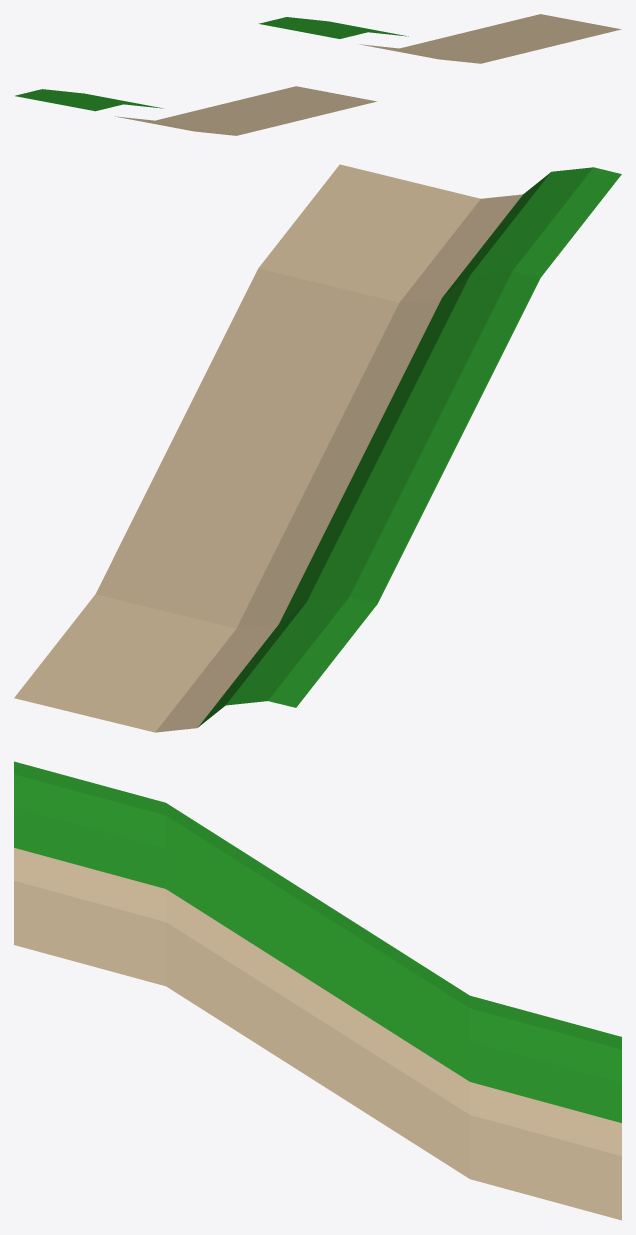
The model's file is Hilly_Terrain_Path_Hill_Sharp_Plain_Side.glb.
3 renders of one model, top to bottom at view 1: azimuth 30°, elevation 25°; view 2: azimuth 150°, elevation 25°; view 3: azimuth 270°, elevation 25°, orthographic. The views are drawn at different scales.
Visible parts, largest first — view 1: Hilly_Terrain_Path_Hill_Sharp_Plain_Side; view 2: Hilly_Terrain_Path_Hill_Sharp_Plain_Side; view 3: Hilly_Terrain_Path_Hill_Sharp_Plain_Side.
Part boxes in pixels (x1,y1,x2,y2): Hilly_Terrain_Path_Hill_Sharp_Plain_Side: (15,14,621,135); Hilly_Terrain_Path_Hill_Sharp_Plain_Side: (14,164,621,732); Hilly_Terrain_Path_Hill_Sharp_Plain_Side: (14,761,621,1220).
Bounding box in the file's own units: 1 × 1.2 × 2.
